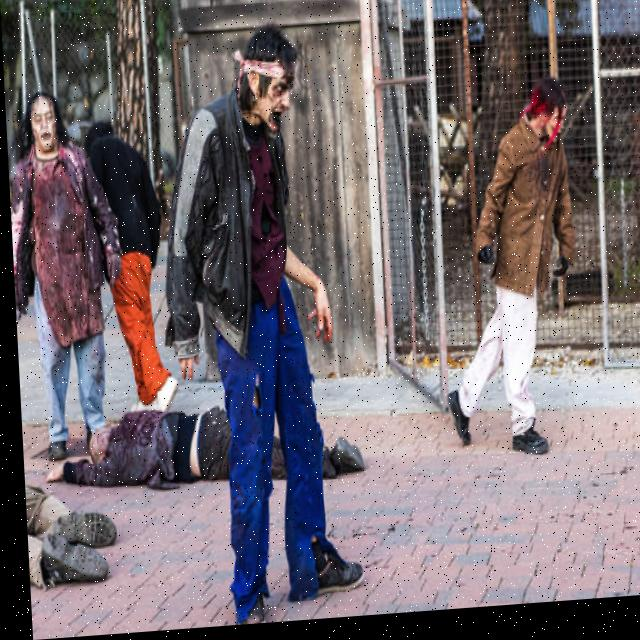Zombie: (236, 33, 304, 142), (19, 95, 63, 148)
